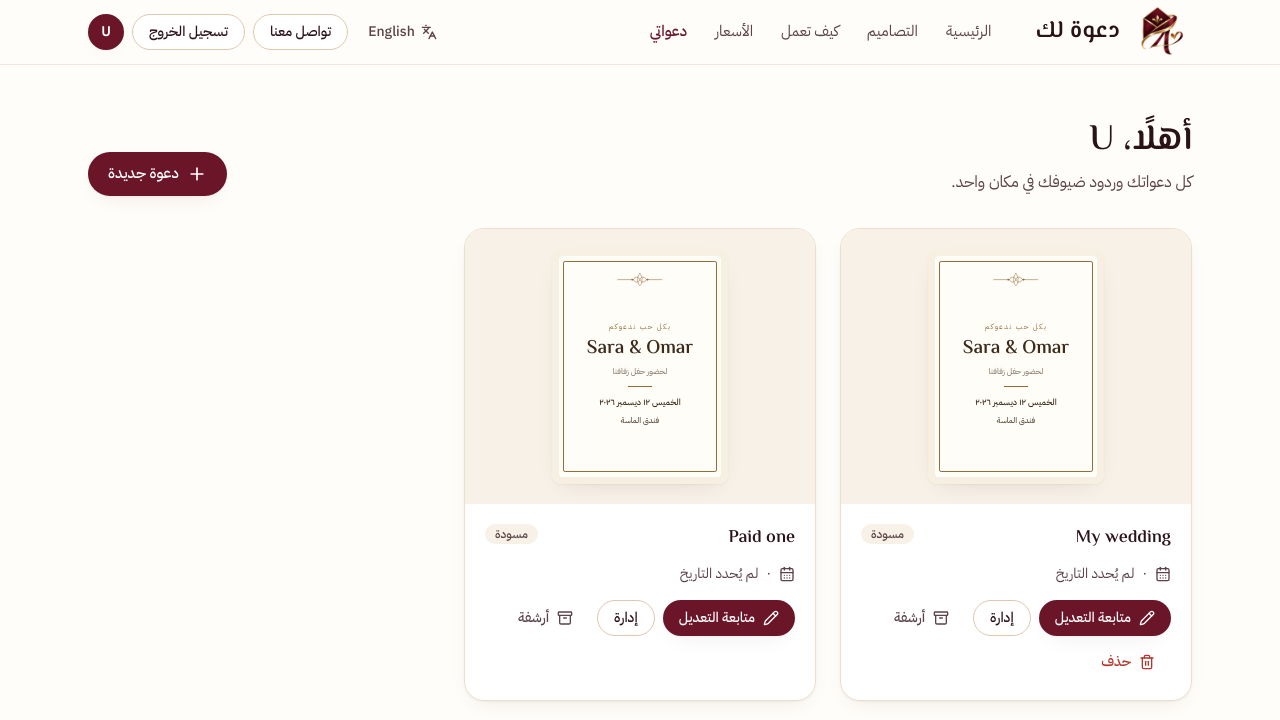
deleting invitations › offers delete only for unpaid invitations and asks before deleting
Expected: the heading "My wedding" is shown, [1076,524,1171,552]
# Declining the confirmation modal deletes nothing.
Click the button "حذف" at (1128, 662), box [1085,644,1171,680]
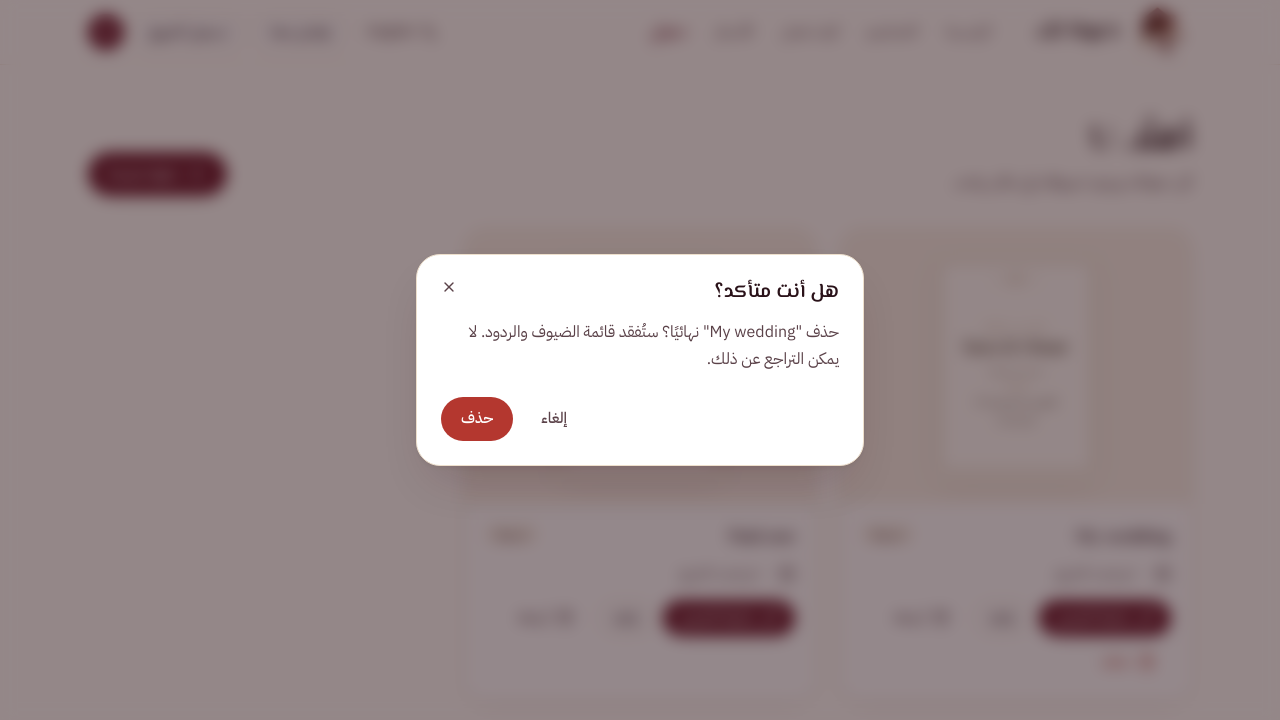
Click the button "إلغاء" at (554, 419), box [521,397,587,441]
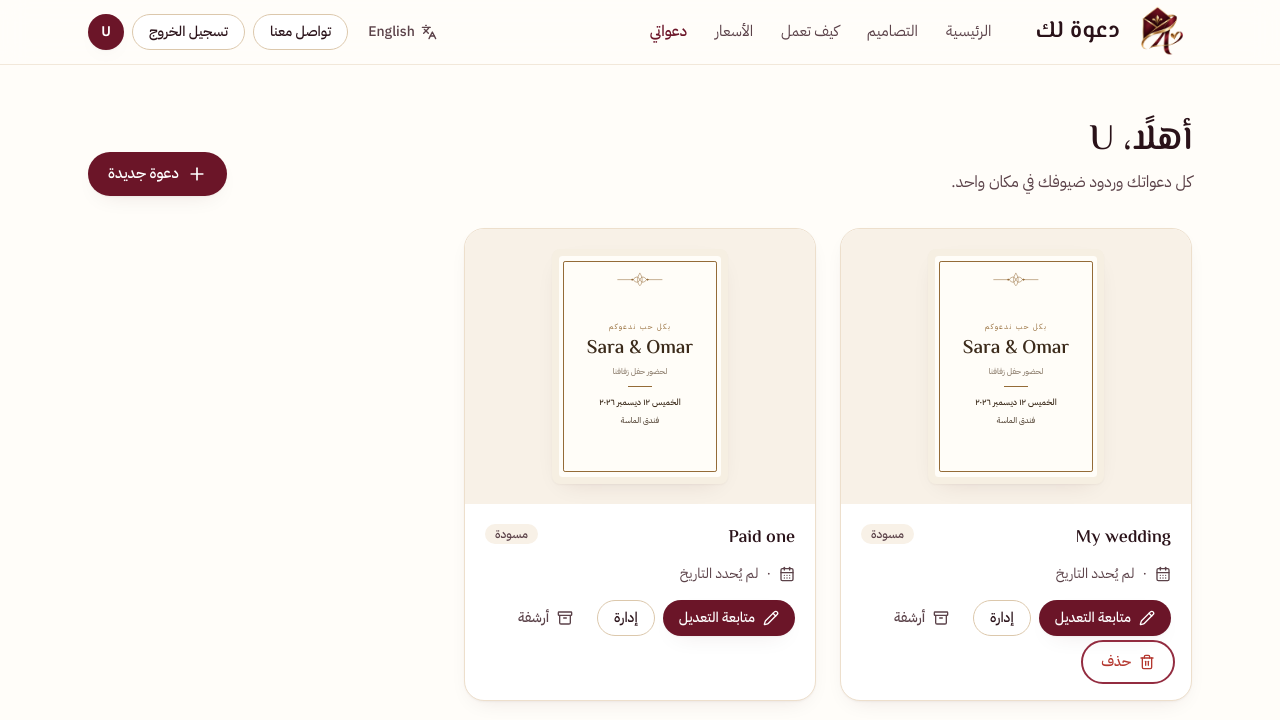
Expected: the dialog is gone
Click the button "حذف" at (1128, 662), box [1085,644,1171,680]
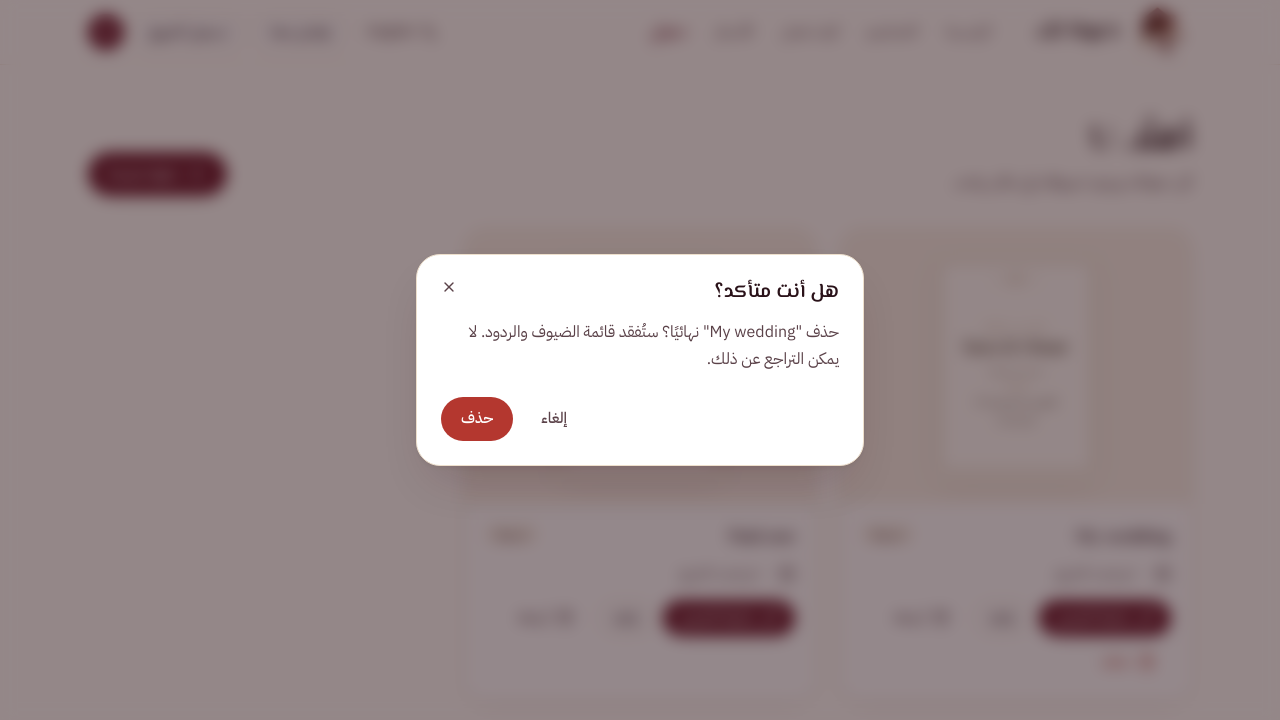
Click the button "حذف" at (477, 419), box [441,397,513,441]
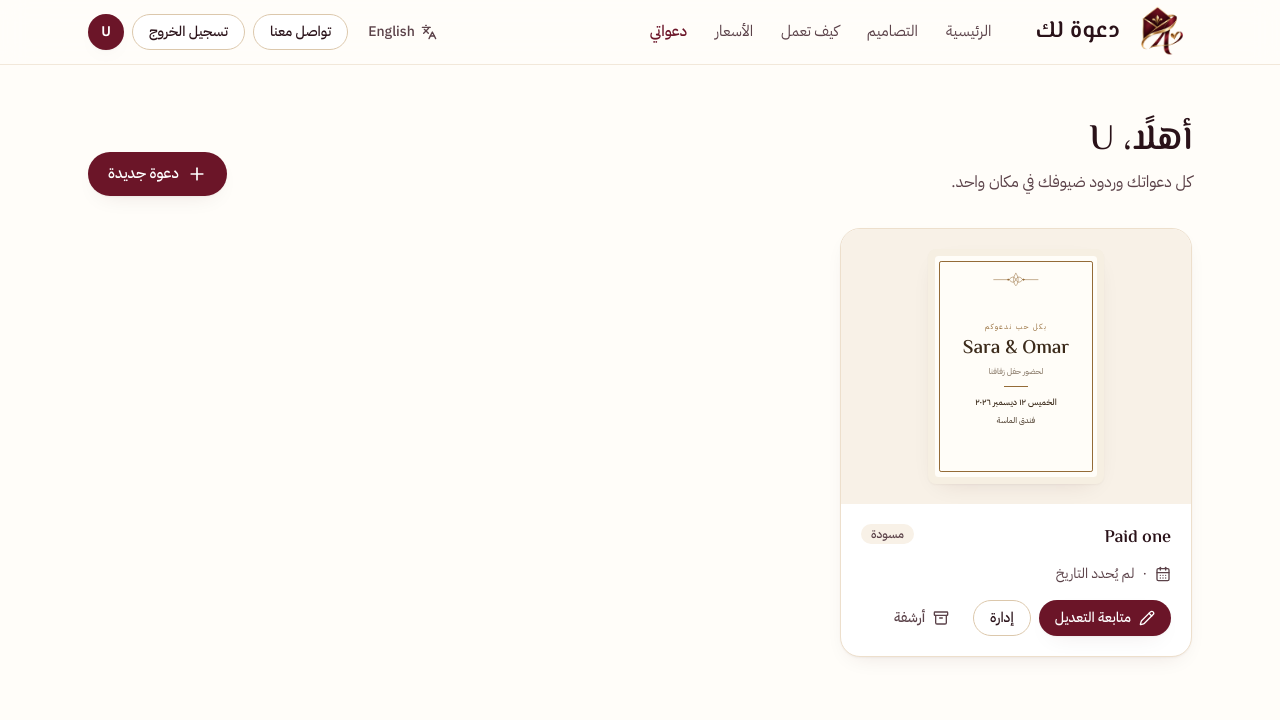
Expected: the heading "Paid one" is shown, [1104,524,1171,552]
Expected: the heading "My wedding" is gone
